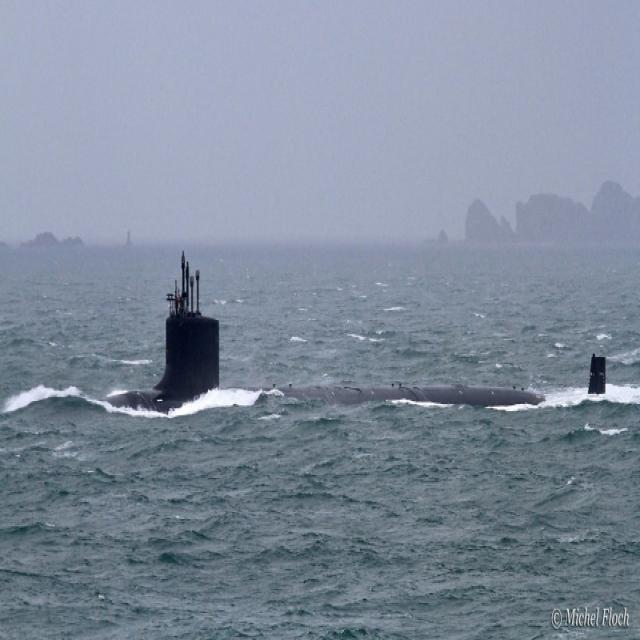submarine: (67, 246, 613, 399)
